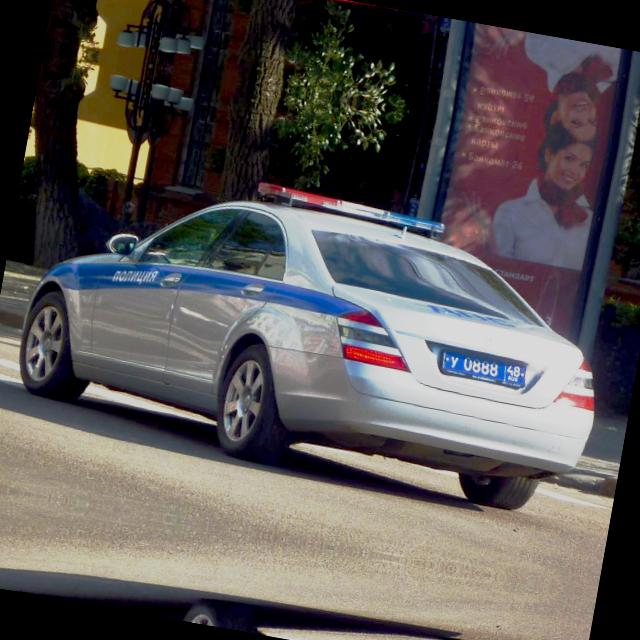police: (436, 342, 534, 392)
